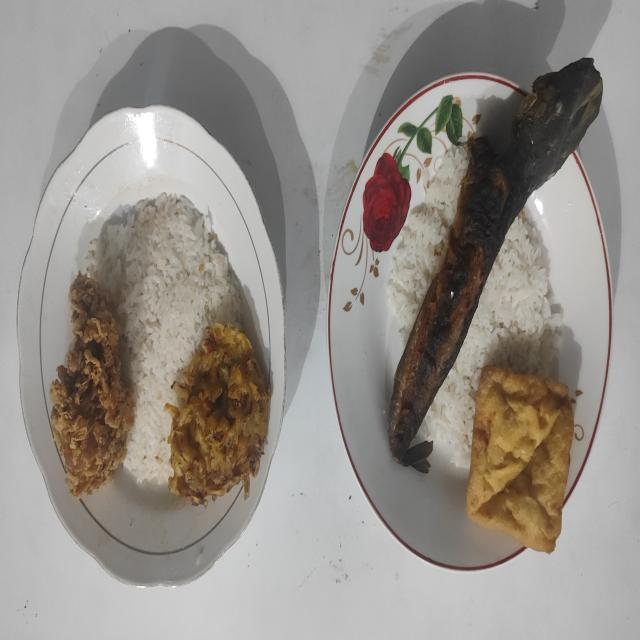nasi_putih: (82, 191, 242, 484), (422, 210, 562, 467), (386, 150, 468, 342)
tahu_goreng: (466, 366, 574, 552)
